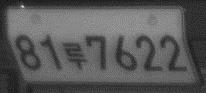1: (38, 34, 62, 71)
2: (134, 34, 164, 72), (161, 33, 188, 72)
6: (114, 33, 137, 71)
7: (85, 34, 108, 71)
8: (14, 34, 42, 71)
루: (61, 40, 89, 71)
